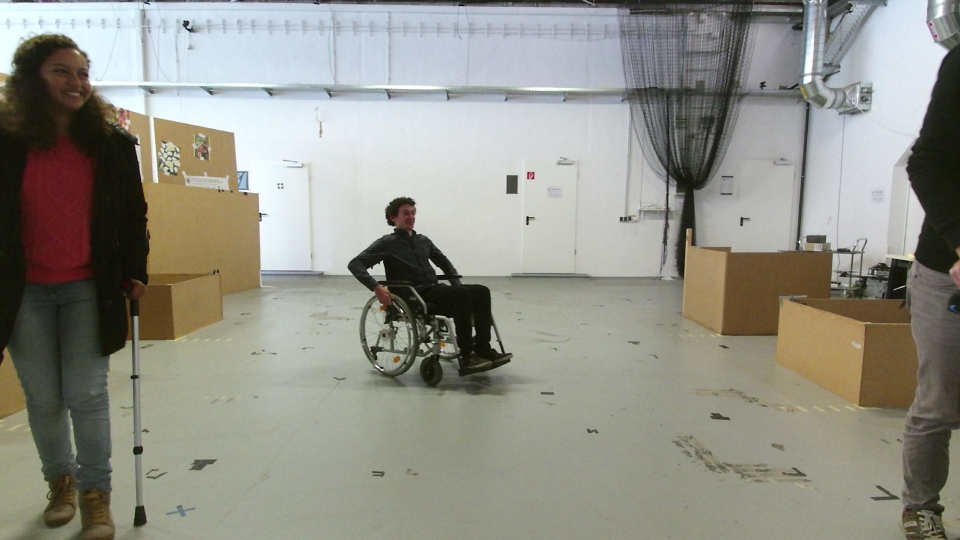crutches: (1, 25, 157, 533)
wheelchair: (340, 192, 520, 387)
